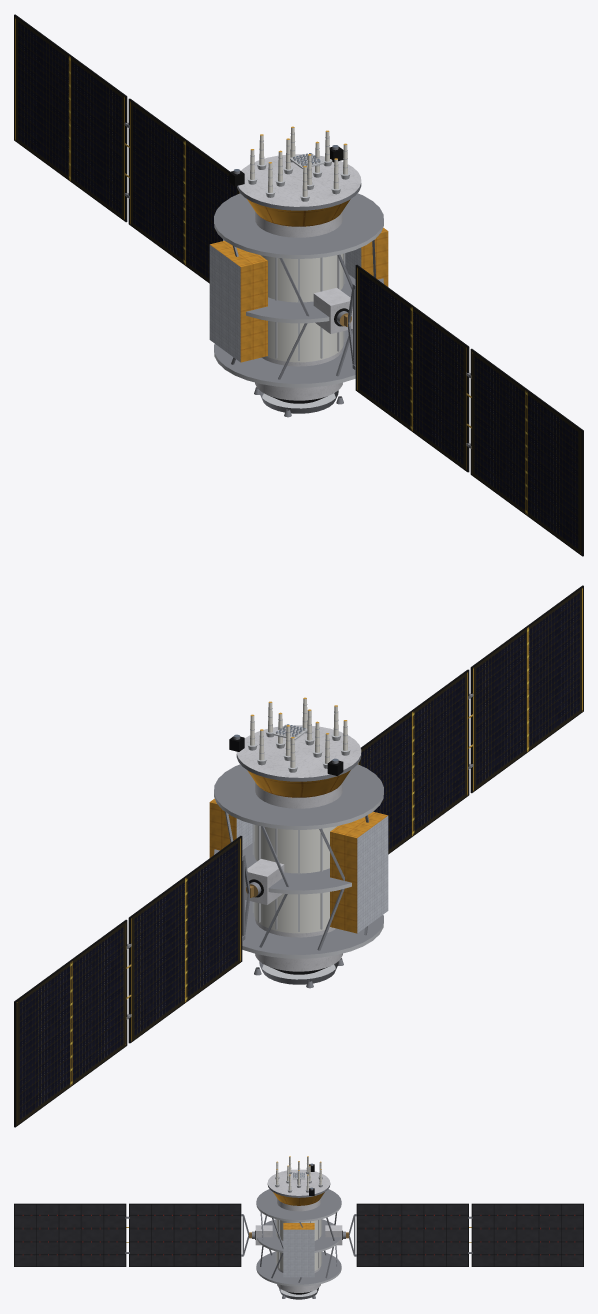
Rendered from glonass-m.glb.
The picture shows the model from 3 angles, top to bottom: view 1: azimuth 30°, elevation 25°; view 2: azimuth 150°, elevation 25°; view 3: azimuth 270°, elevation 25°; orthographic projection. The views are drawn at different scales.
Visible parts, largest first — view 1: wing-Y, wing+Y, equipment_frame, pressurized_cylinder, nadir_antenna_deck; view 2: wing+Y, wing-Y, equipment_frame, pressurized_cylinder, nadir_antenna_deck; view 3: wing+Y, wing-Y, equipment_frame, nadir_antenna_deck, pressurized_cylinder.
Part boxes in pixels (x1,y1,x2,y2): wing-Y: (344, 264, 583, 556); wing+Y: (14, 14, 239, 283); equipment_frame: (209, 193, 388, 387); pressurized_cylinder: (254, 211, 345, 417); nadir_antenna_deck: (229, 126, 361, 226); wing+Y: (14, 835, 253, 1127); wing-Y: (358, 585, 583, 854); equipment_frame: (209, 764, 388, 958); pressurized_cylinder: (252, 782, 343, 988); nadir_antenna_deck: (229, 697, 361, 797); wing+Y: (346, 1203, 583, 1266); wing-Y: (14, 1203, 251, 1266); equipment_frame: (255, 1189, 342, 1286); nadir_antenna_deck: (267, 1156, 330, 1205); pressurized_cylinder: (275, 1198, 322, 1299).
Bounding box in the file's own units: 2.4 × 3.9 × 16.
17 materials, 6 textured.
